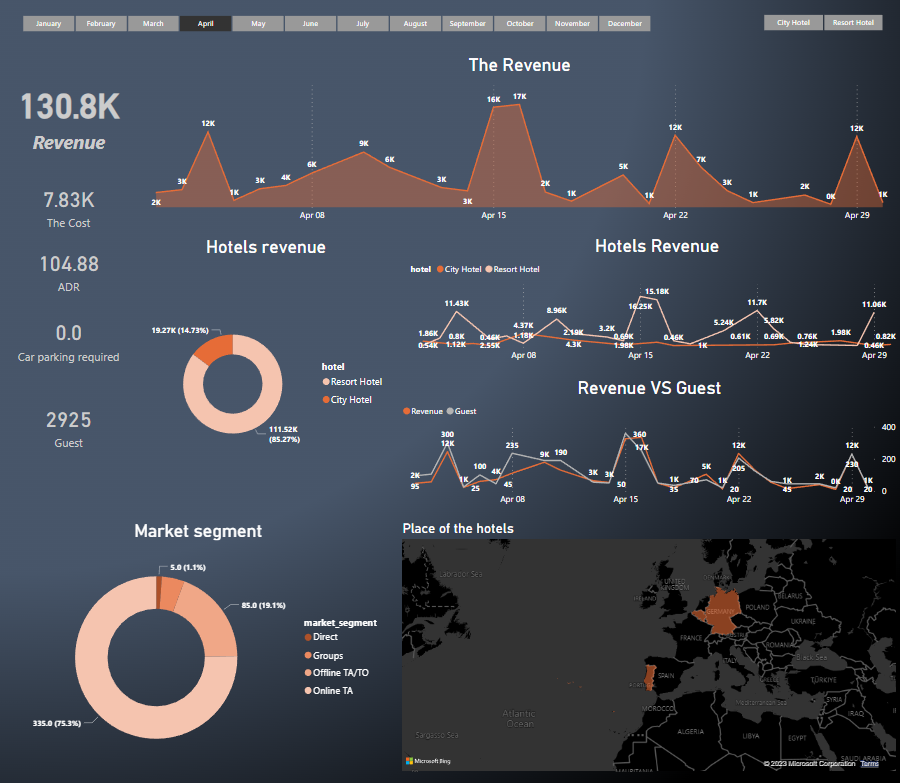

The dashboard page shown, as its layout file describes it:
{"tool":"powerbi","page":{"name":"Page 1","canvas":[1300,1125],"ordinal":0},"visuals":[{"type":"card","fields":{"Values":["Sum(Query1.Revenue)"]},"box":[12,80.2,181.9,172.5],"z":0},{"type":"card","fields":{"Values":["Avg(Query1.adr)"]},"box":[12,339.7,181.9,96.3],"z":1000},{"type":"card","fields":{"Values":["Query1.Totle nighit"]},"box":[11.6,562.7,182.4,95.1],"z":2000},{"type":"lineChart","title":"Hotels Revenue","fields":{"Category":["Query1.reservation_status_date"],"Series":["Query1.hotel"],"Y":["Sum(Query1.Revenue)"]},"box":[586,338.8,714.2,189.7],"z":3000},{"type":"filledMap","title":"Place of the hotels","fields":{"Category":["Query1.country"]},"box":[573.7,746.2,715.4,363.7],"z":4000},{"type":"slicer","fields":{"Values":["Query1.hotel"]},"box":[1069.8,17.4,219.3,36.1],"z":5000},{"type":"card","fields":{"Values":["Sum(Query1.required_car_parking_spaces)"]},"box":[12,435.9,181.9,101.6],"z":6000},{"type":"donutChart","title":"Hotels revenue  ","fields":{"Y":["Sum(Query1.Revenue)"],"Category":["Query1.hotel"]},"box":[204.6,339.7,359.7,394.5],"z":7000},{"type":"slicer","fields":{"Values":["Query1.reservation_status_date.Variation.Date Hierarchy.Month"]},"box":[12,18,946,36],"z":8000},{"type":"card","fields":{"Values":["Sum(Query1.Cost)"]},"box":[12,252.7,181.9,86.9],"z":9000},{"type":"donutChart","title":"Market segment","fields":{"Y":["CountNonNull(Query1.market_segment)"],"Category":["Query1.market_segment"]},"box":[12,746.2,552.3,363.7],"z":10000},{"type":"lineChart","title":"Revenue VS Guest","fields":{"Category":["Query1.reservation_status_date"],"Y":["Sum(Query1.Revenue)"],"Y2":["Query1.Totle nighit"]},"box":[573.7,541.6,715.4,192.6],"z":11000},{"type":"areaChart","title":"The Revenue","fields":{"Category":["Query1.reservation_status_date"],"Y":["Sum(Query1.Revenue)"]},"box":[204.6,80.2,1084.5,248.7],"z":12000}]}

Visuals, with their boxes in screenshot pixels (x1, y1, x2, y2), scaled from the page's 1300x1125 canvas onto the 900x783 screenshot:
card - Sum(Query1.Revenue): region(8, 56, 134, 176)
card - Avg(Query1.adr): region(8, 236, 134, 303)
card - Query1.Totle nighit: region(8, 392, 134, 458)
"Hotels Revenue" lineChart: region(406, 236, 899, 368)
"Place of the hotels" filledMap: region(397, 519, 892, 772)
slicer - Query1.hotel: region(741, 12, 892, 37)
card - Sum(Query1.required_car_parking_spaces): region(8, 303, 134, 374)
"Hotels revenue  " donutChart: region(142, 236, 391, 511)
slicer - Query1.reservation_status_date.Variation.Date Hierarchy.Month: region(8, 13, 663, 38)
card - Sum(Query1.Cost): region(8, 176, 134, 236)
"Market segment" donutChart: region(8, 519, 391, 772)
"Revenue VS Guest" lineChart: region(397, 377, 892, 511)
"The Revenue" areaChart: region(142, 56, 892, 229)
